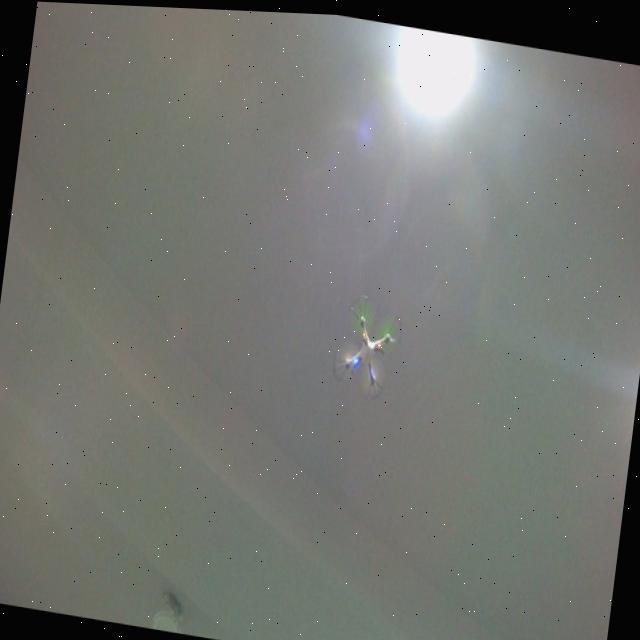drone: (326, 283, 407, 404)
